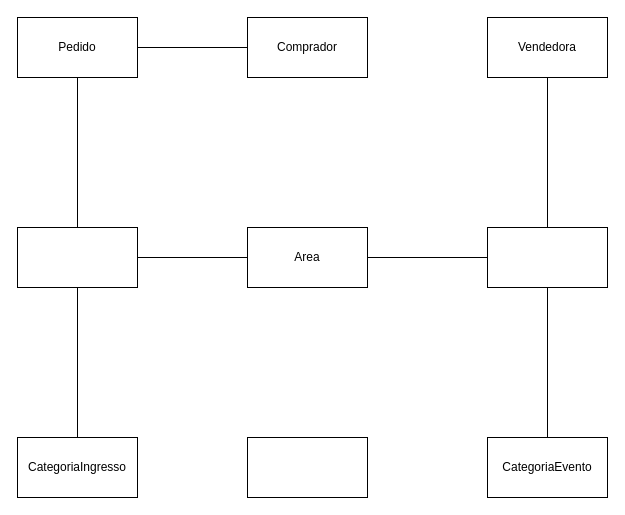
This 625x515 diagram has some shape labels left out. The centre of each missing label's shape, as x and y in pixels:
Evento: pixel 547 257
Ingresso: pixel 77 257
Usuario: pixel 307 467
